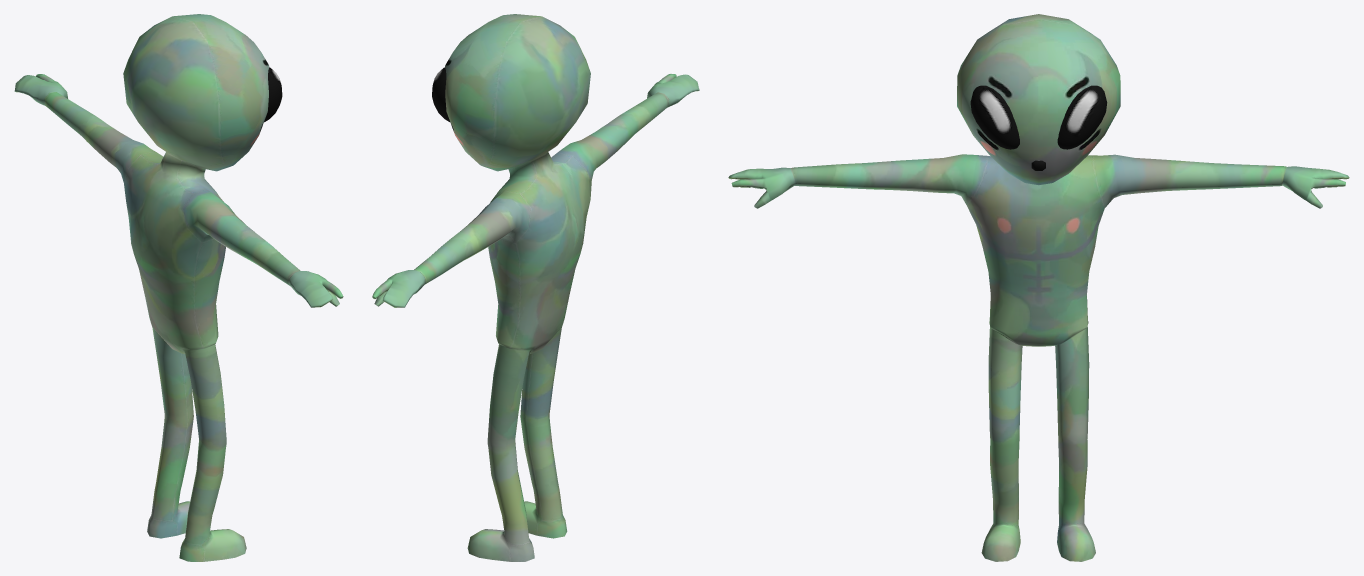
File: alien.glb
The picture shows the model from 3 angles, left to right: view 1: azimuth 30°, elevation 25°; view 2: azimuth 150°, elevation 25°; view 3: azimuth 270°, elevation 25°; orthographic projection.
Visible parts, largest first — view 1: pCube2_1; view 2: pCube2_1; view 3: pCube2_1.
Part boxes in pixels (x1,y1,x2,y2): pCube2_1: (14,14,343,561); pCube2_1: (372,14,699,561); pCube2_1: (728,14,1349,561).
Bounding box in the file's own units: 1.12 × 4.41 × 4.72.
Materials: 1 (1 with a texture image).
